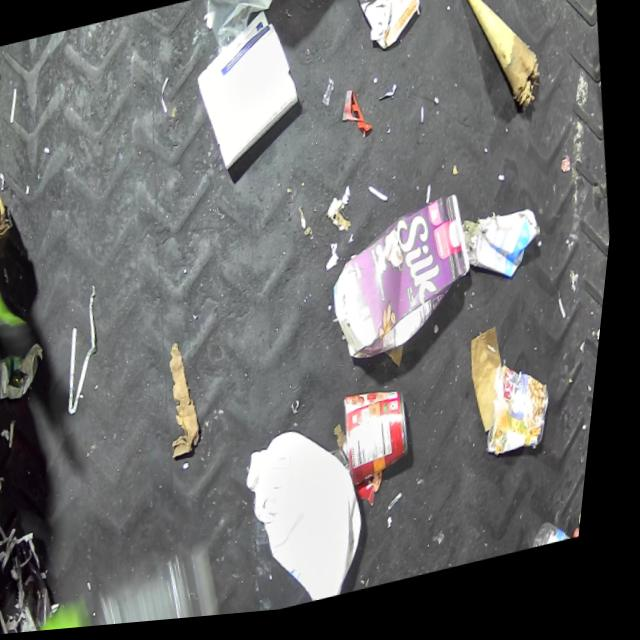can: (343, 385, 429, 496), (483, 362, 570, 468), (0, 365, 11, 459)
milk_jug: (239, 418, 394, 620)
non_white_jug: (324, 196, 494, 376), (336, 0, 430, 66)
